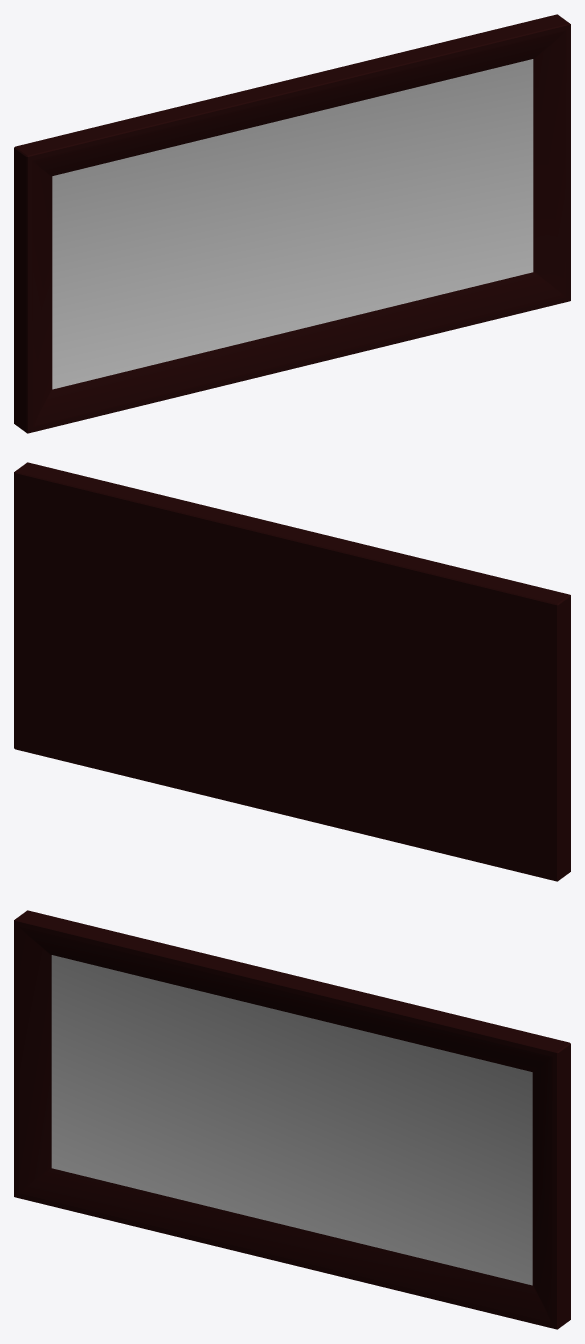
Rendered from aws_PortraitD_01_visual.DAE.
3 renders of one model, top to bottom at view 1: azimuth 30°, elevation 25°; view 2: azimuth 150°, elevation 25°; view 3: azimuth 330°, elevation 25°, orthographic.
Visible parts, largest first — view 1: aws_PortraitD_01_visual; view 2: aws_PortraitD_01_visual; view 3: aws_PortraitD_01_visual.
Boxes of the visible parts, x1,y1,x2,y2 form: aws_PortraitD_01_visual: (14,14,570,433); aws_PortraitD_01_visual: (14,462,570,881); aws_PortraitD_01_visual: (14,910,570,1329).
Bounding box in the file's own units: 101 × 4.39 × 49.04.
